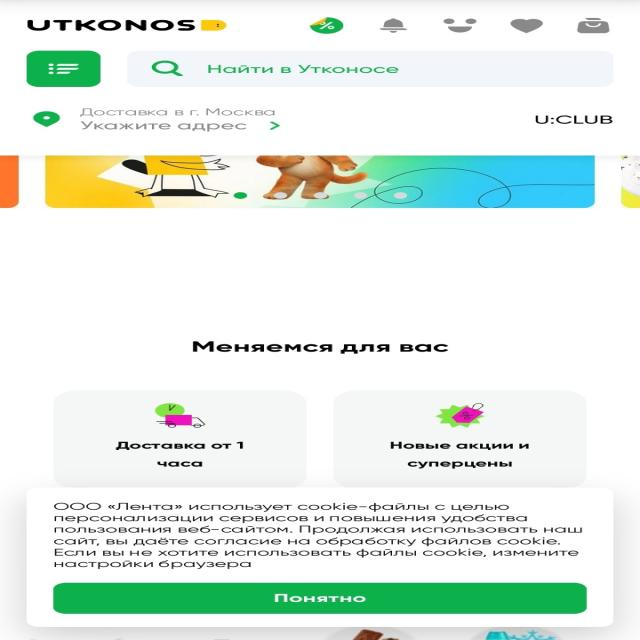button: (53, 581, 587, 615)
site: (29, 488, 612, 628)
